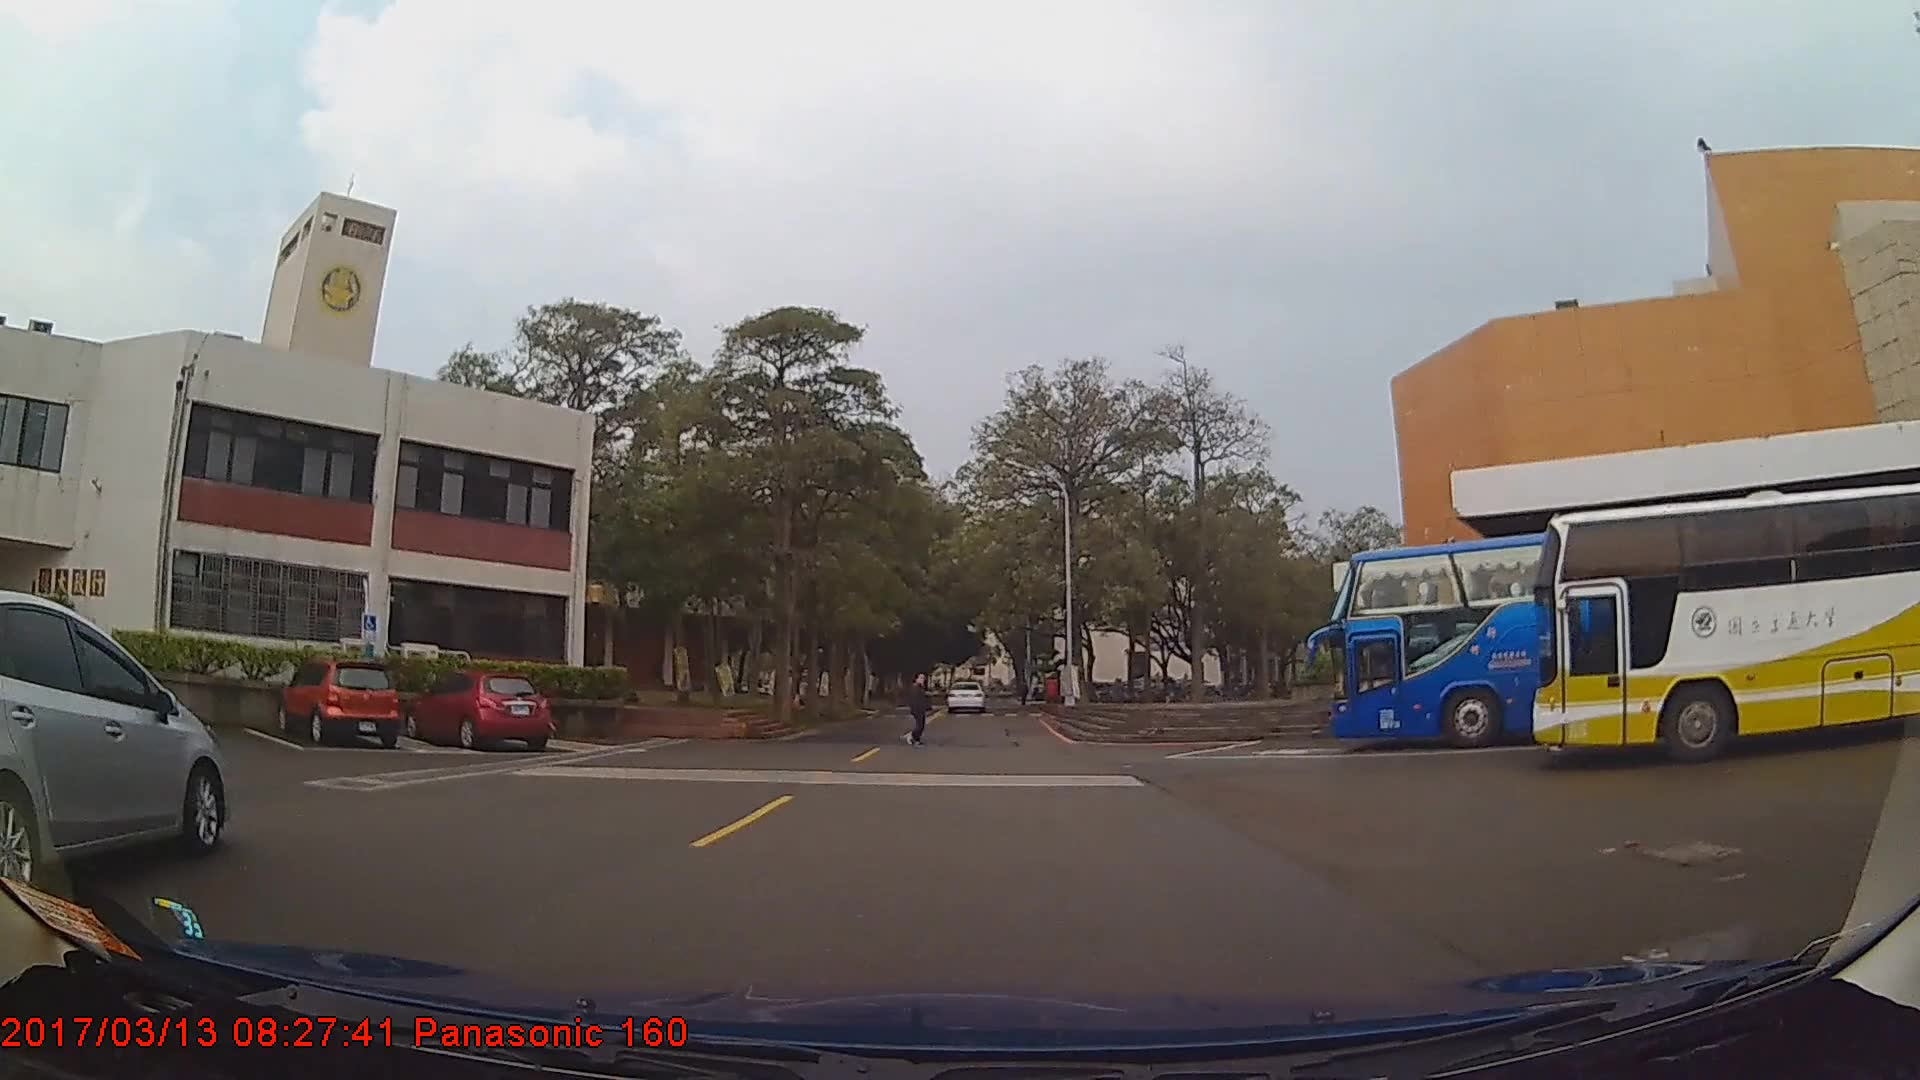pedestrian: (905, 671, 934, 747)
vehicle: (1326, 514, 1920, 750), (1531, 479, 1920, 764), (0, 589, 230, 897), (402, 670, 553, 749), (273, 659, 401, 749), (943, 678, 987, 715)
